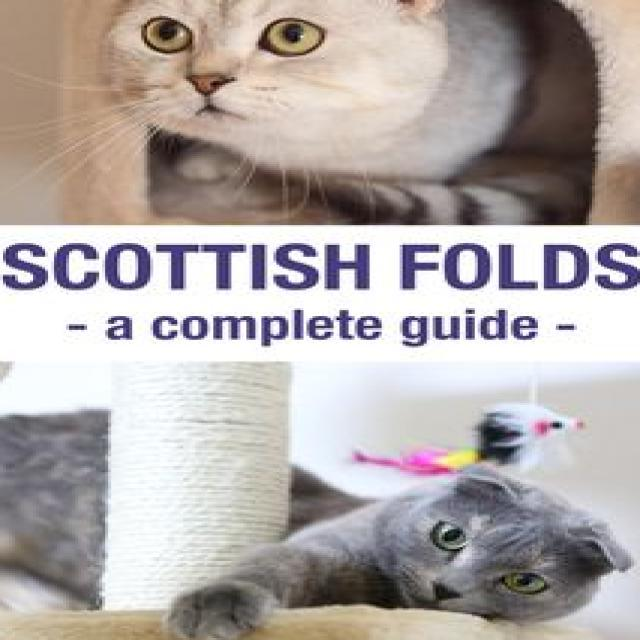Scottish Fold: (72, 0, 589, 223), (159, 466, 637, 640)
